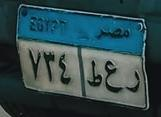3: (41, 50, 57, 85)
4: (59, 54, 69, 86)
7: (26, 47, 42, 80)
Taa: (87, 58, 101, 91)
ain: (103, 57, 120, 94)
raa: (125, 69, 141, 92)
